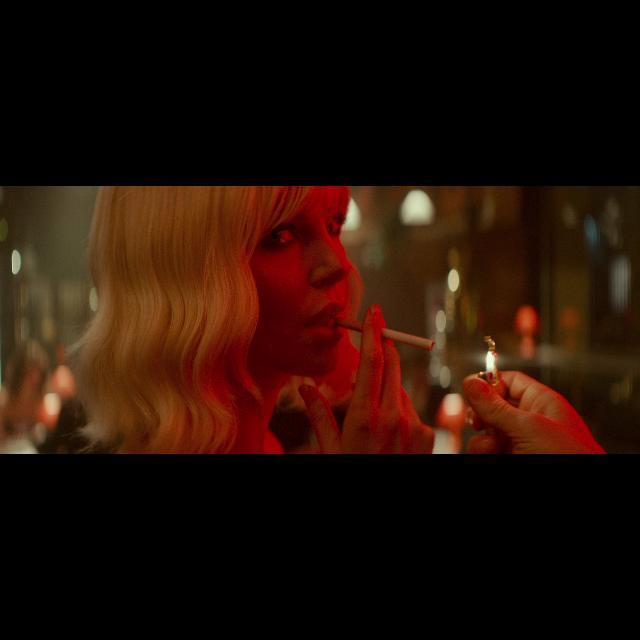rokok: (335, 307, 439, 353)
